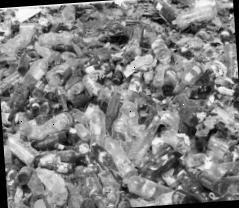glass: (134, 144, 180, 184), (172, 165, 208, 204), (191, 164, 228, 198), (4, 164, 33, 206), (101, 92, 124, 132), (83, 46, 108, 69)
